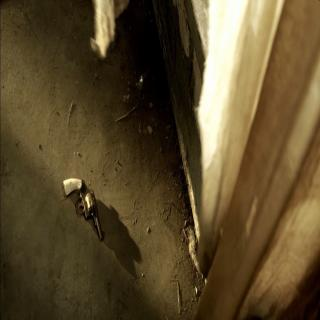gun: (62, 174, 104, 242)
